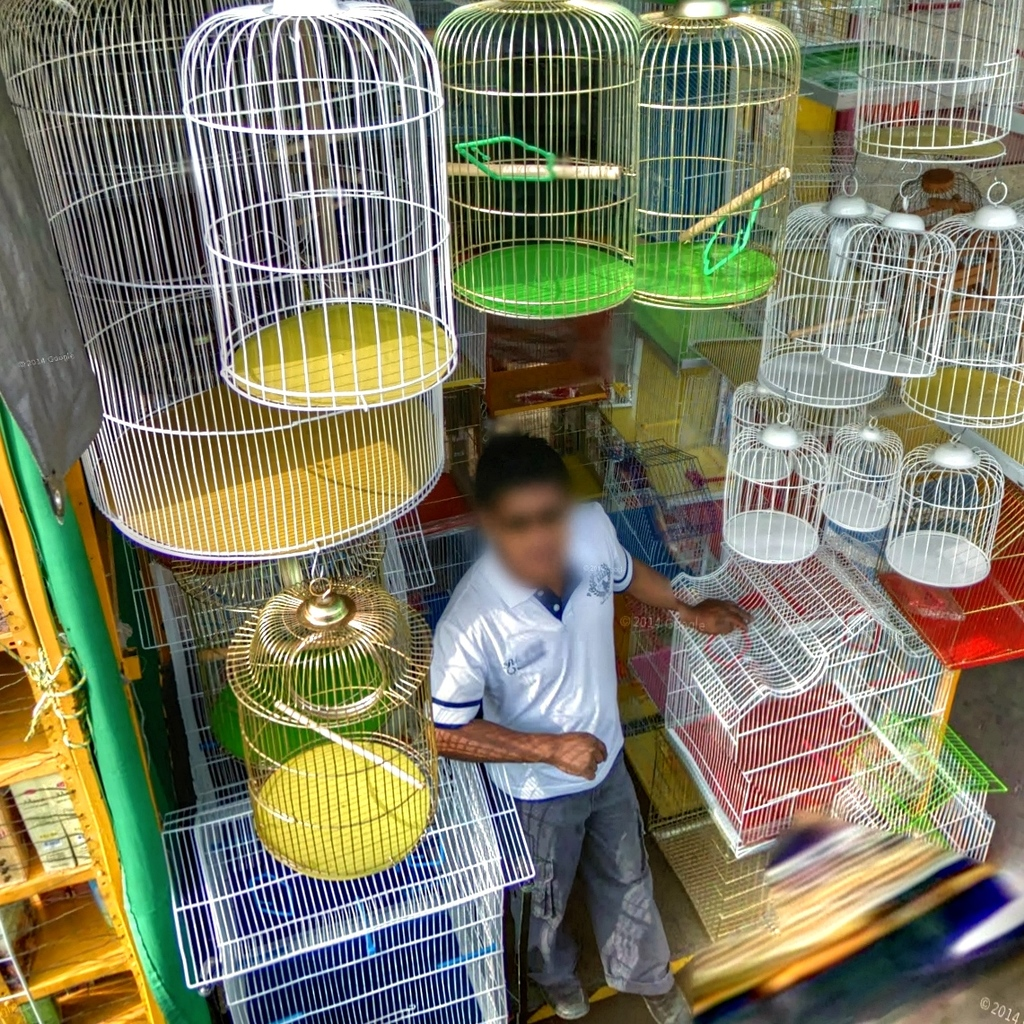Person: (427, 426, 750, 1024)
